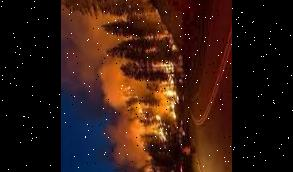fire: (128, 62, 182, 150)
